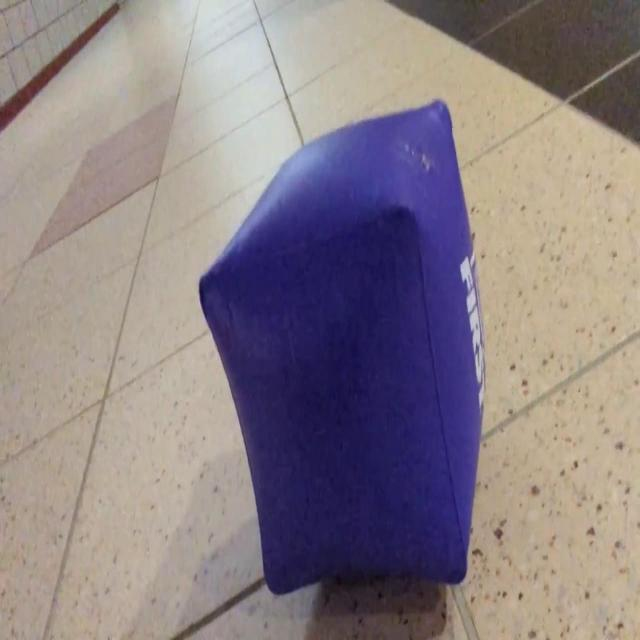frc_cube: (197, 100, 483, 600)
